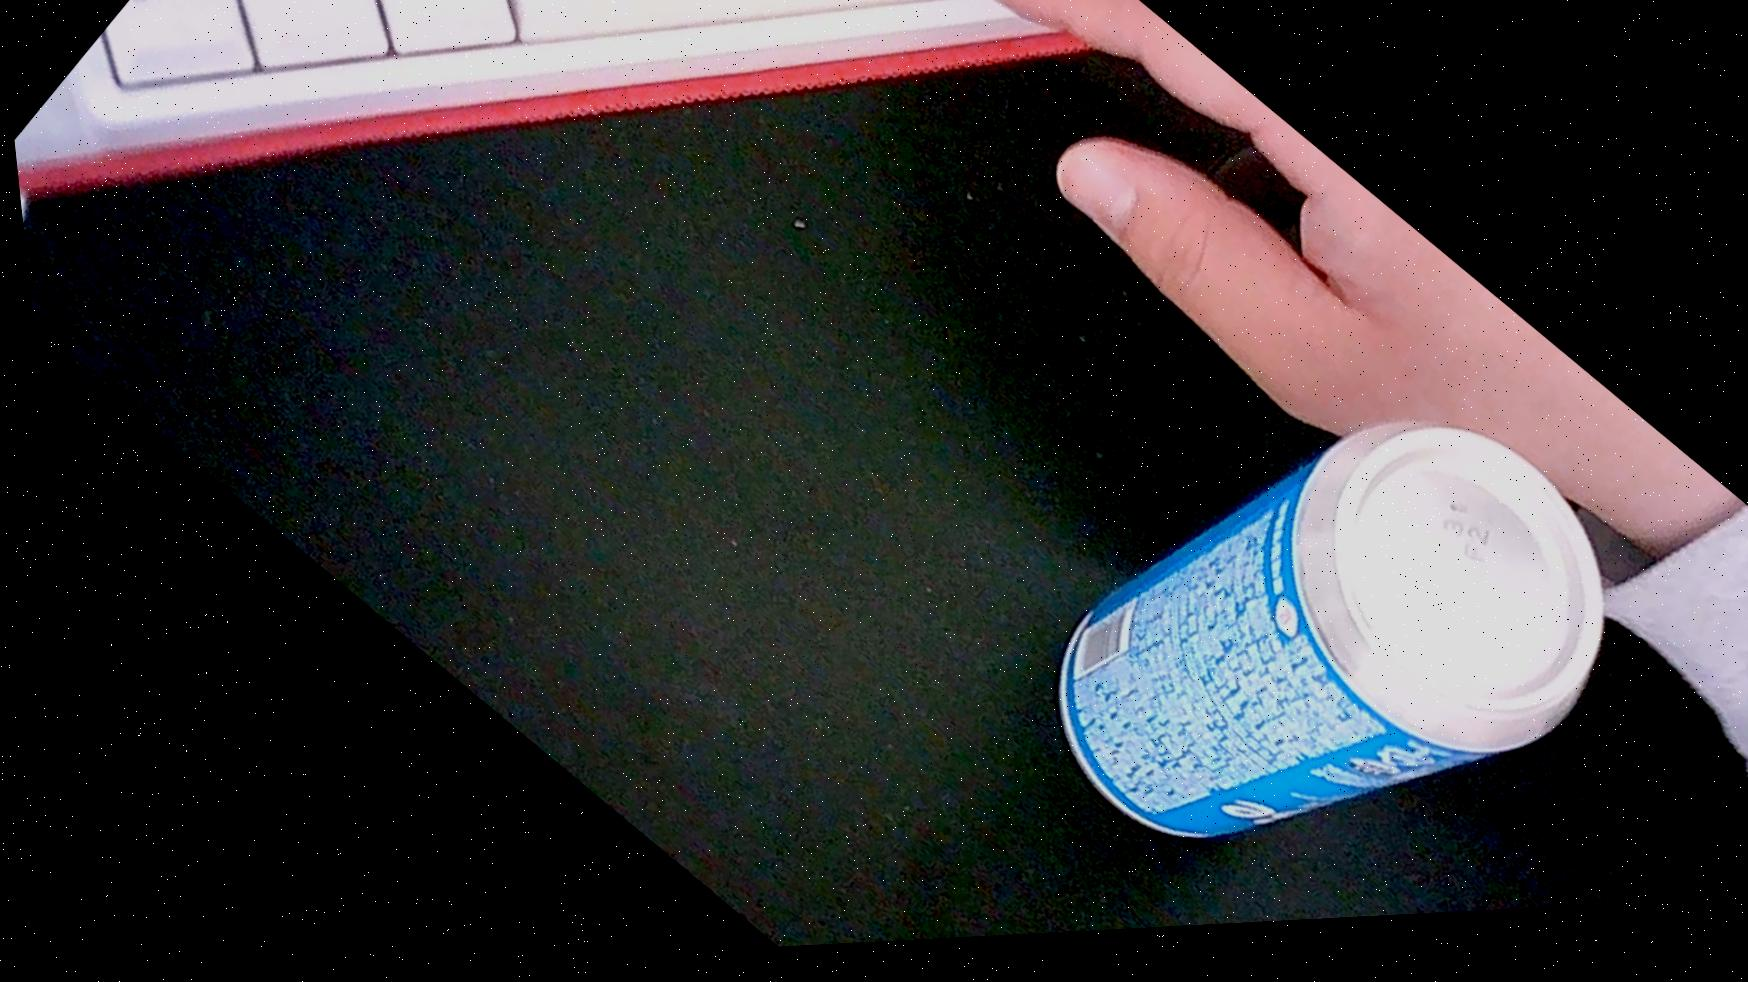letsbe: (954, 306, 1684, 944)
